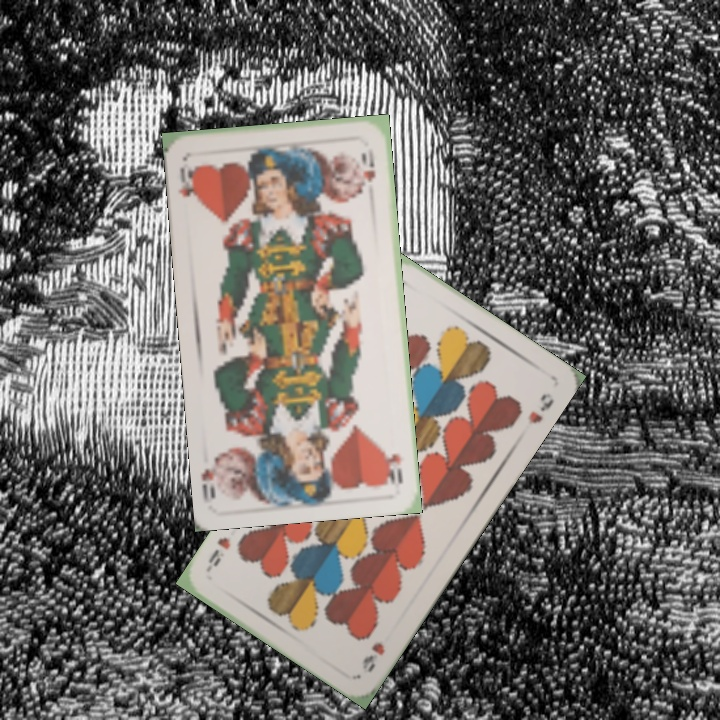H9: (358, 638, 388, 675)
HO: (174, 162, 201, 205), (381, 445, 405, 488)
